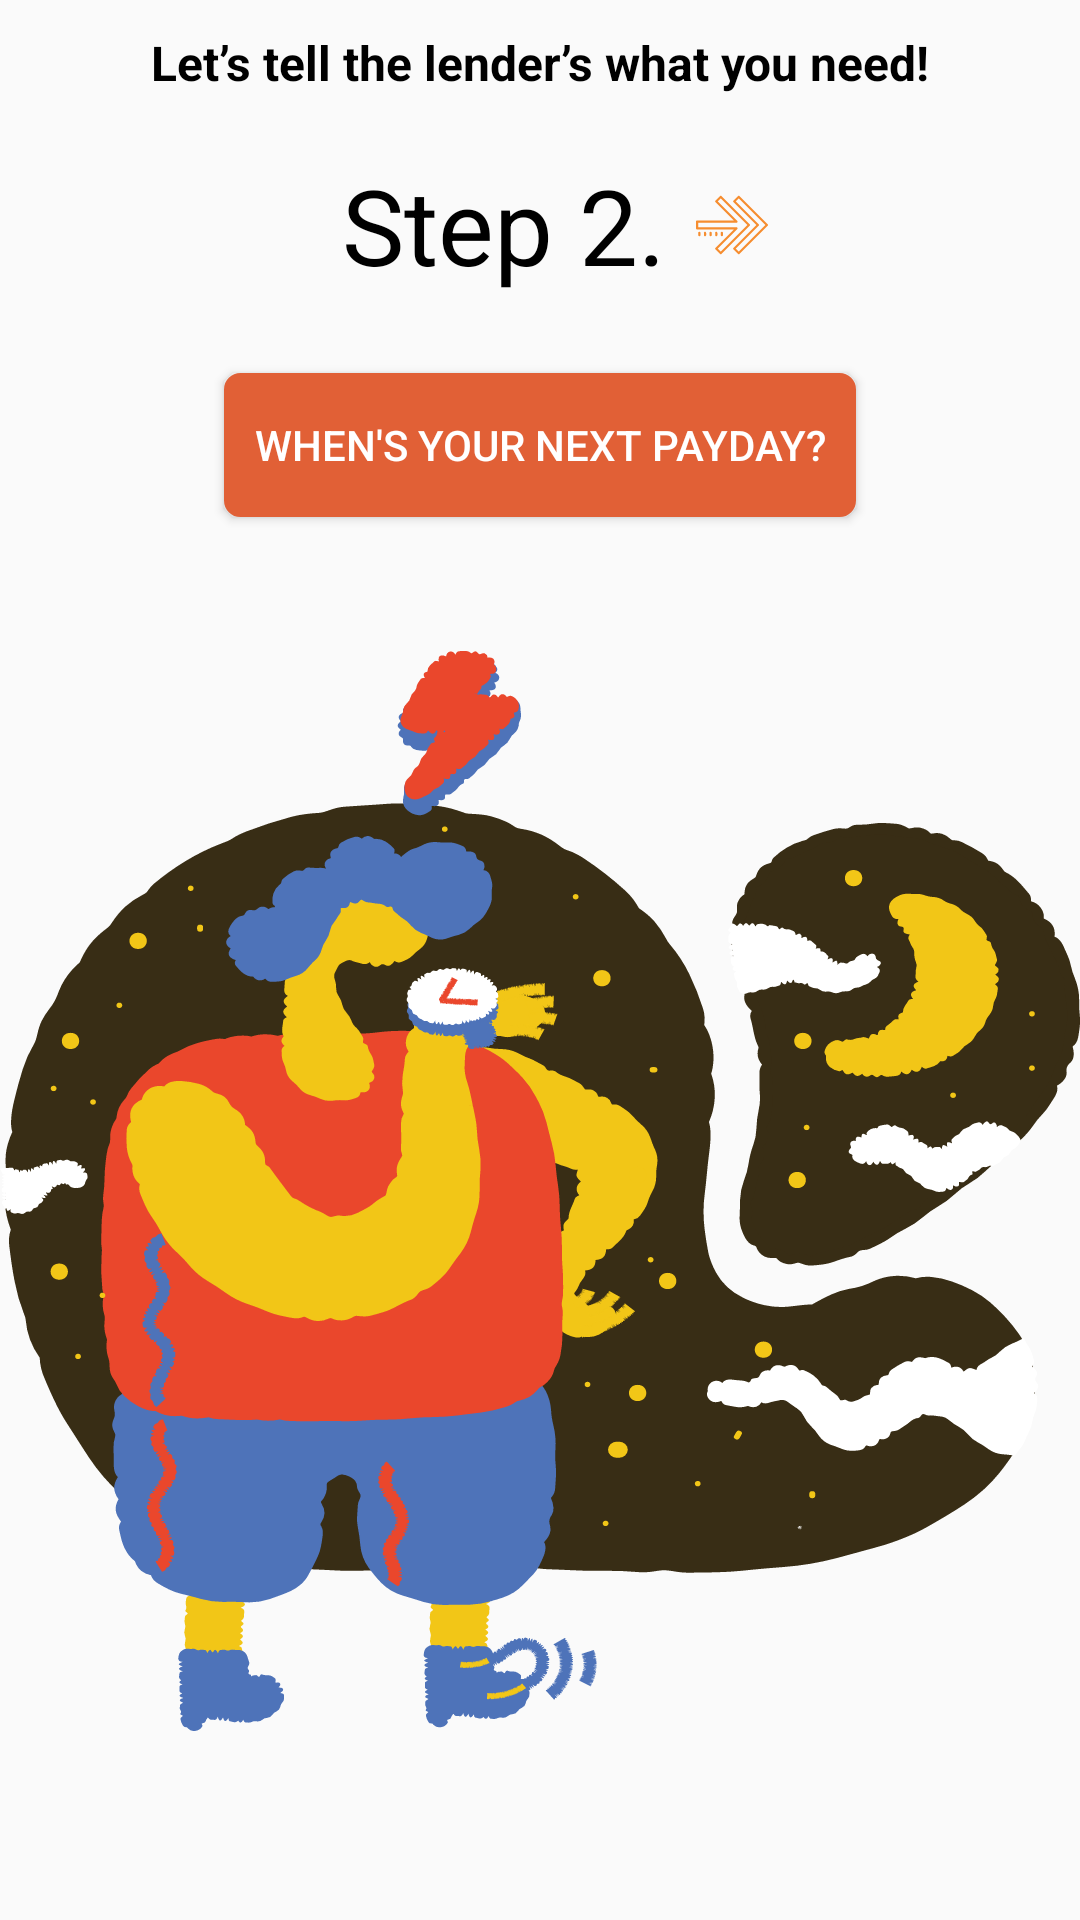

Named icons in this screenshot (1080px×1920px) and their centers, (x,y):
double arrow: (732,225)
